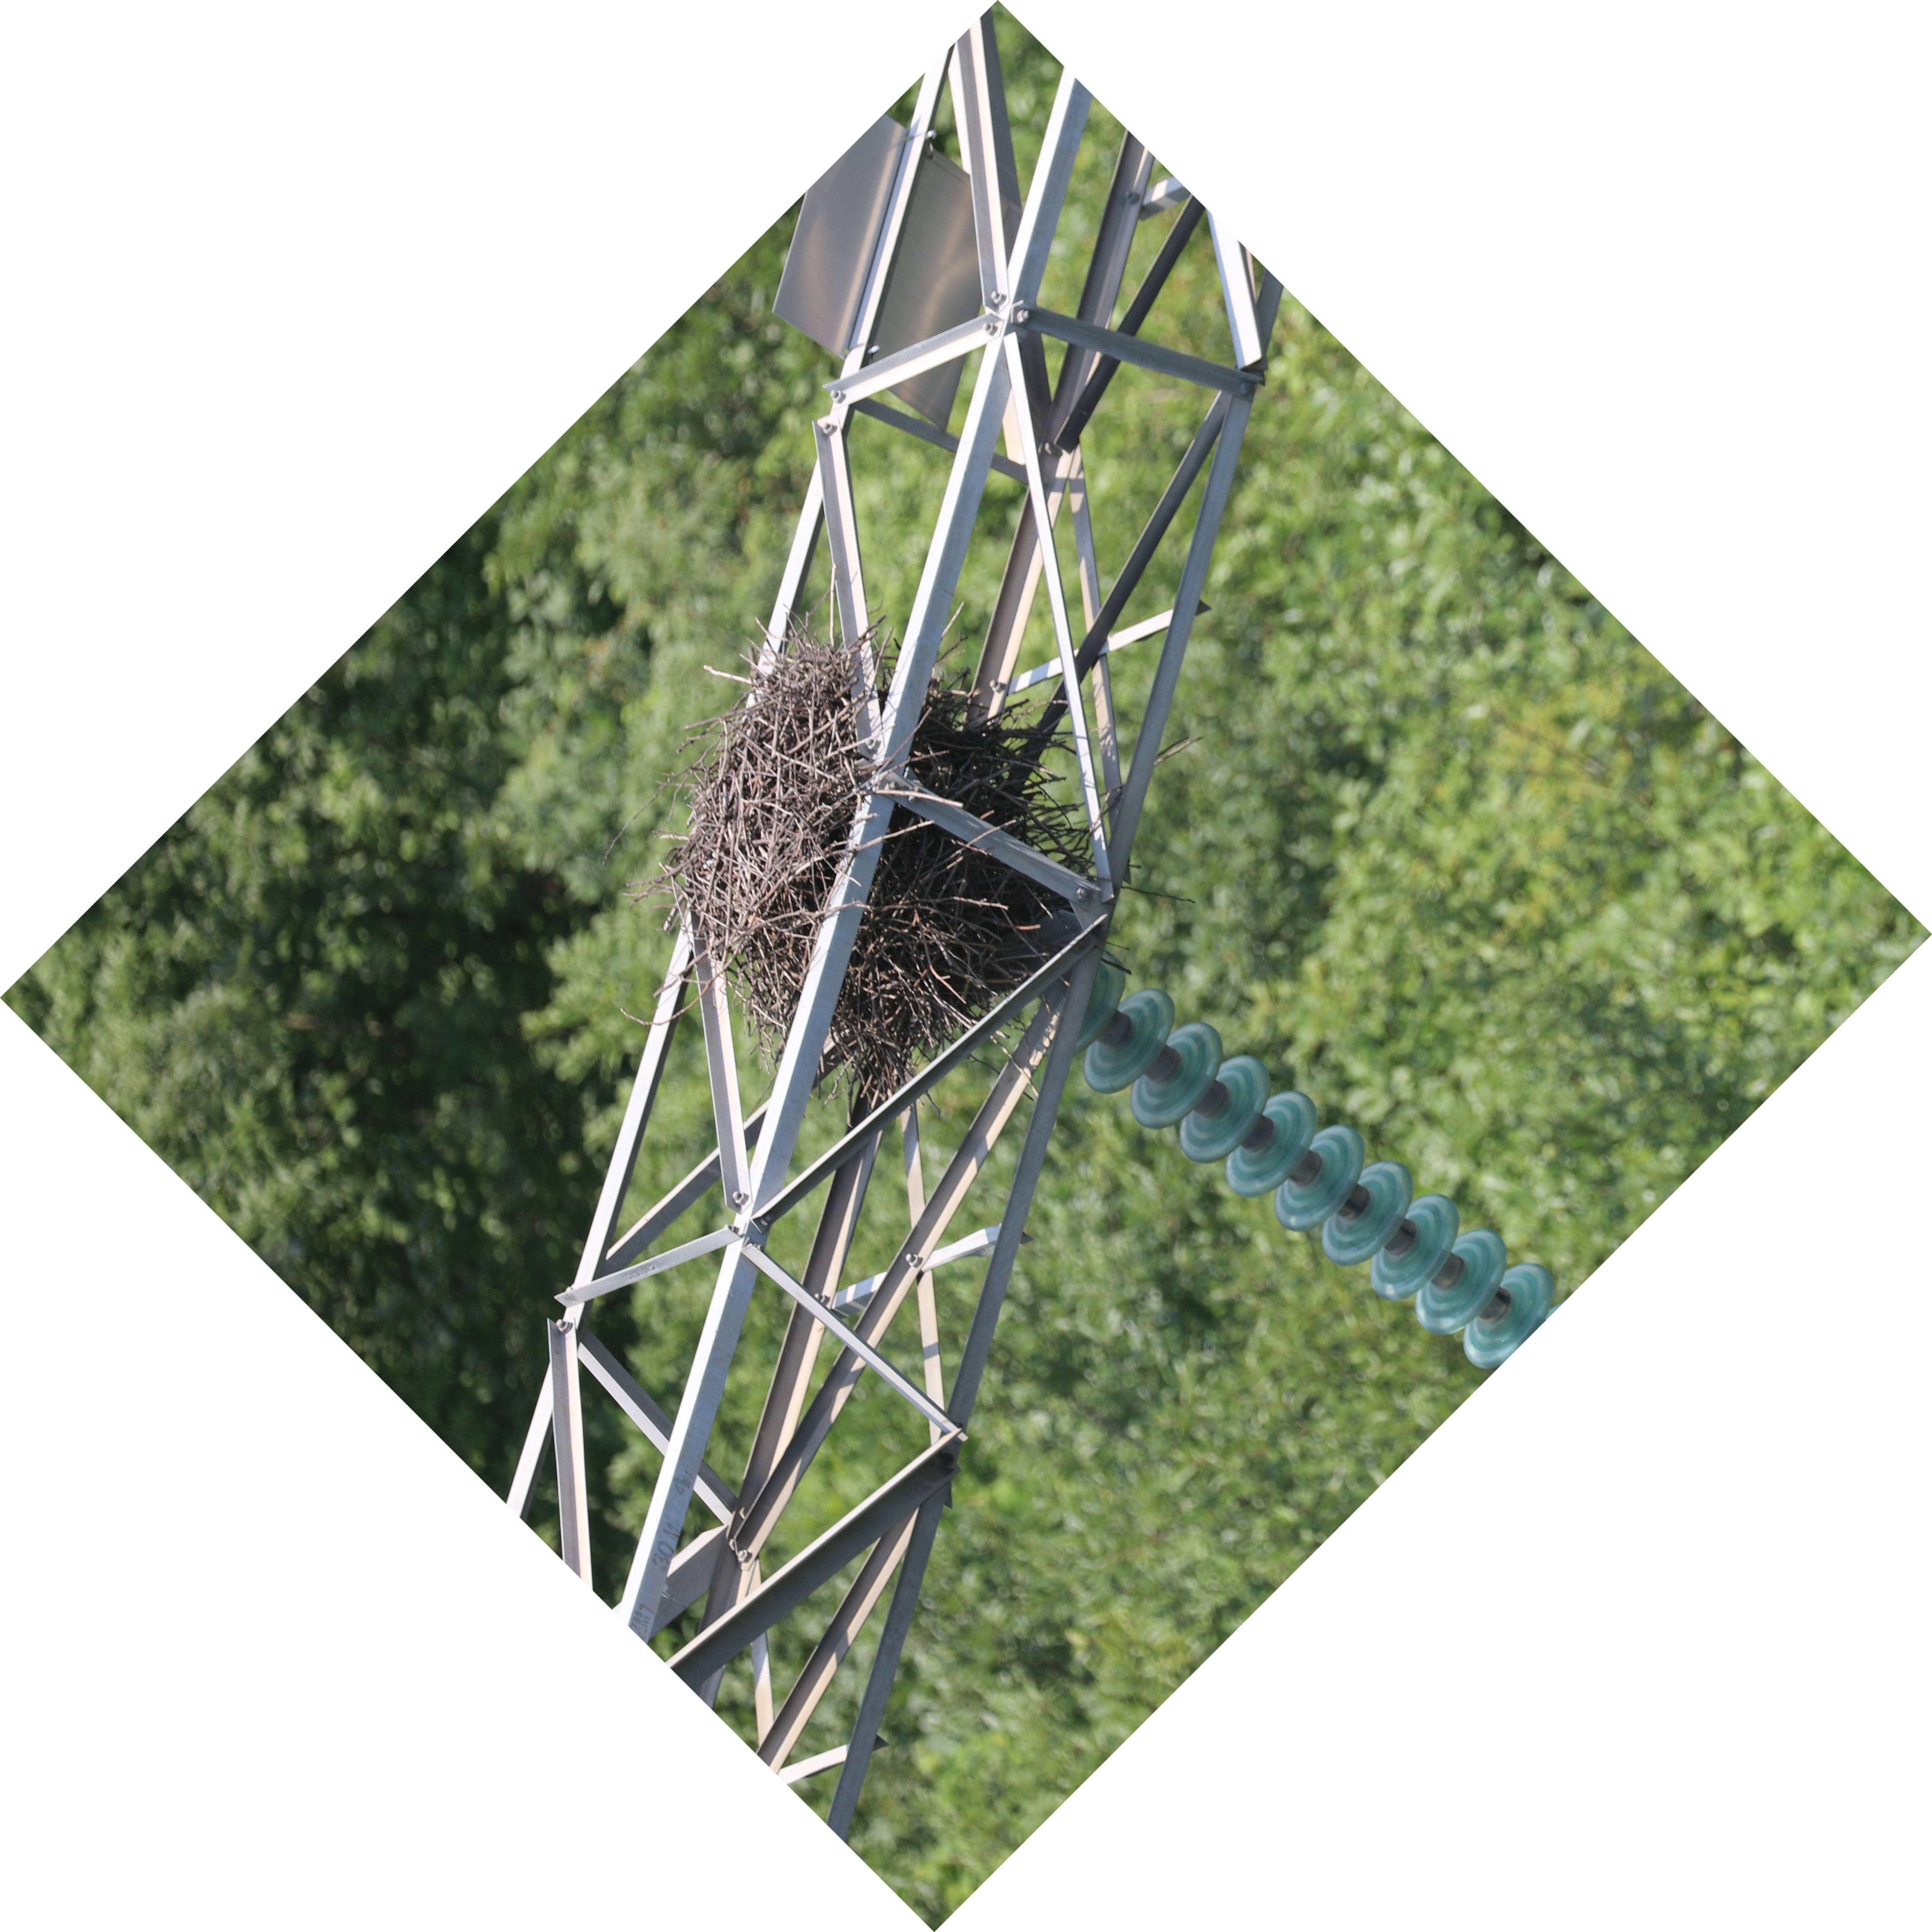niaowo: (646, 651, 1120, 1111)
